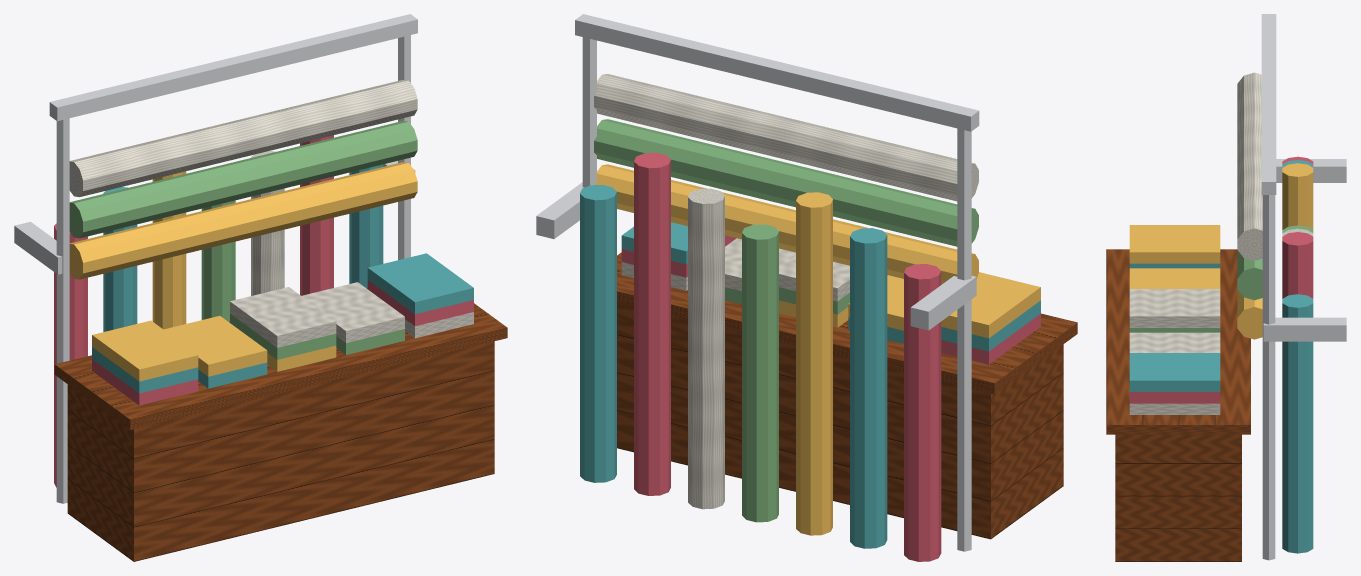
File: indian-bazaar-street-and-temple-cloth-stall-with-bolt--a2faee3a.glb
3 renders of one model, left to right at view 1: azimuth 30°, elevation 25°; view 2: azimuth 150°, elevation 25°; view 3: azimuth 270°, elevation 25°, orthographic. The views are drawn at different scales.
Visible parts, largest first — view 1: cloth-stall-with-bolt-rack-timber, cloth-stall-with-bolt-rack-saffron, cloth-stall-with-bolt-rack-plaster, cloth-stall-with-bolt-rack-leaf, cloth-stall-with-bolt-rack-steel, cloth-stall-with-bolt-rack-teal, cloth-stall-with-bolt-rack-crimson; view 2: cloth-stall-with-bolt-rack-timber, cloth-stall-with-bolt-rack-plaster, cloth-stall-with-bolt-rack-leaf, cloth-stall-with-bolt-rack-teal, cloth-stall-with-bolt-rack-saffron, cloth-stall-with-bolt-rack-crimson, cloth-stall-with-bolt-rack-steel; view 3: cloth-stall-with-bolt-rack-timber, cloth-stall-with-bolt-rack-teal, cloth-stall-with-bolt-rack-plaster, cloth-stall-with-bolt-rack-steel, cloth-stall-with-bolt-rack-saffron, cloth-stall-with-bolt-rack-crimson, cloth-stall-with-bolt-rack-leaf.
Part boxes in pixels (x1,y1,x2,y2): cloth-stall-with-bolt-rack-timber: (54, 288, 507, 561); cloth-stall-with-bolt-rack-saffron: (69, 162, 417, 381); cloth-stall-with-bolt-rack-plaster: (69, 80, 473, 347); cloth-stall-with-bolt-rack-leaf: (69, 121, 417, 359); cloth-stall-with-bolt-rack-steel: (14, 14, 417, 503); cloth-stall-with-bolt-rack-teal: (92, 164, 473, 393); cloth-stall-with-bolt-rack-crimson: (54, 135, 473, 487); cloth-stall-with-bolt-rack-timber: (617, 252, 1077, 539); cloth-stall-with-bolt-rack-plaster: (594, 74, 978, 509); cloth-stall-with-bolt-rack-leaf: (594, 119, 978, 522); cloth-stall-with-bolt-rack-teal: (580, 184, 1040, 548); cloth-stall-with-bolt-rack-saffron: (595, 164, 1040, 535); cloth-stall-with-bolt-rack-crimson: (621, 152, 1040, 561); cloth-stall-with-bolt-rack-steel: (536, 14, 979, 551); cloth-stall-with-bolt-rack-timber: (1106, 249, 1250, 561); cloth-stall-with-bolt-rack-teal: (1129, 160, 1313, 553); cloth-stall-with-bolt-rack-plaster: (1129, 72, 1313, 414); cloth-stall-with-bolt-rack-steel: (1261, 14, 1346, 560); cloth-stall-with-bolt-rack-saffron: (1129, 163, 1313, 339); cloth-stall-with-bolt-rack-crimson: (1129, 156, 1313, 403); cloth-stall-with-bolt-rack-leaf: (1129, 225, 1313, 332).
Size of the model in its own units: 2.3 by 2.32 by 1.33.
Materials: 7 (2 with a texture image).
